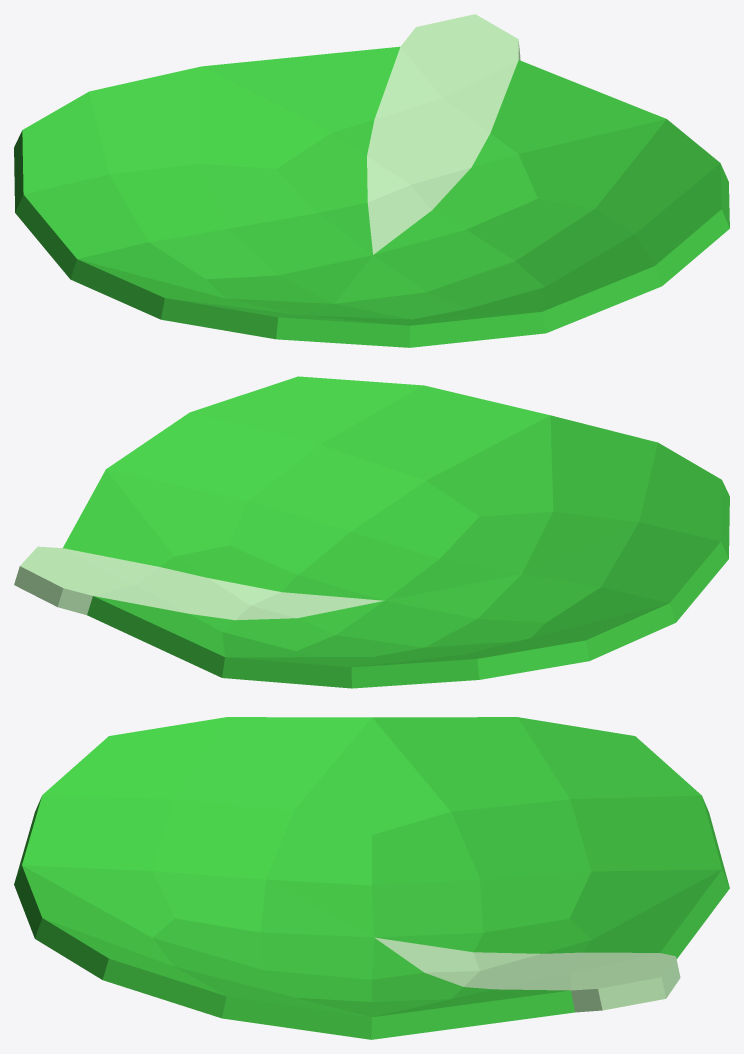
Rendered from Lettuce.fbx.
The picture shows the model from 3 angles, top to bottom: view 1: azimuth 30°, elevation 25°; view 2: azimuth 150°, elevation 25°; view 3: azimuth 270°, elevation 25°; orthographic projection. The views are drawn at different scales.
Parts seen in each view (by area): view 1: Plane; view 2: Plane; view 3: Plane.
Boxes of the visible parts, box(x1,y1,x2,y2) form: Plane: box(14, 14, 729, 347); Plane: box(14, 376, 729, 688); Plane: box(14, 717, 729, 1039).
Bounding box in the file's own units: 12.59 × 2.13 × 12.59.
